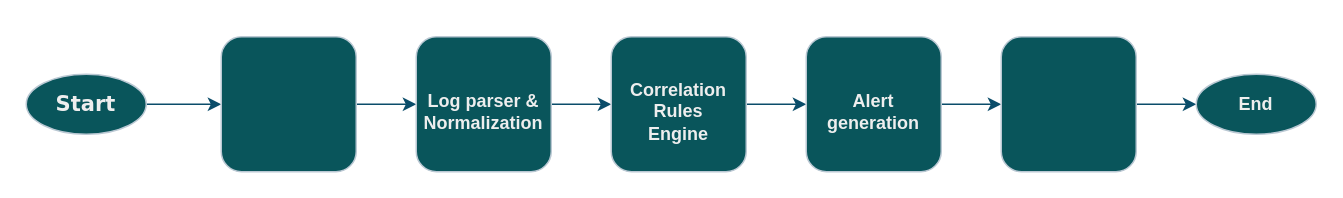
Image size: 1343x198. Some labels were removed from this diagram. Here are the shapes that lost their labels. From the top down, the box of each, then its label:
(220, 35, 356, 172): Upload log file
(1000, 35, 1136, 172): Dashboard Display
